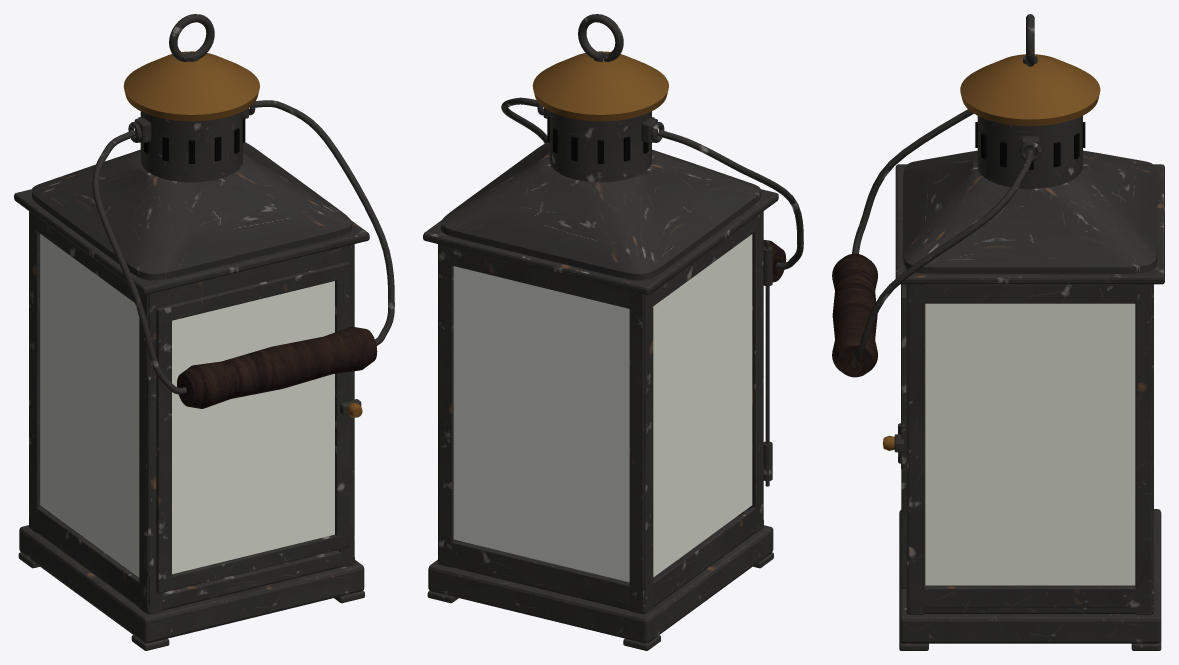
File: lantern.obj
3 renders of one model, left to right at view 1: azimuth 30°, elevation 25°; view 2: azimuth 150°, elevation 25°; view 3: azimuth 270°, elevation 25°, orthographic. The views are drawn at different scales.
Visible parts, largest first — view 1: Lantern_Body, Lantern_Door, Lantern_Glass, Lantern_Grip; view 2: Lantern_Body, Lantern_Glass, Lantern_Door; view 3: Lantern_Body, Lantern_Glass, Lantern_Grip, Lantern_Door.
Boxes of the visible parts, box(x1,y1,x2,y2) form: Lantern_Body: box(14, 14, 394, 650); Lantern_Door: box(144, 261, 362, 593); Lantern_Glass: box(40, 234, 139, 577); Lantern_Grip: box(177, 326, 377, 408); Lantern_Body: box(423, 14, 803, 650); Lantern_Glass: box(453, 234, 752, 582); Lantern_Door: box(763, 246, 772, 481); Lantern_Body: box(851, 14, 1164, 650); Lantern_Glass: box(925, 303, 1135, 585); Lantern_Grip: box(832, 253, 877, 377); Lantern_Door: box(882, 284, 906, 588).
Size of the model in its own units: 0.1618 by 0.3469 by 0.1805.
7 materials, 2 textured.
